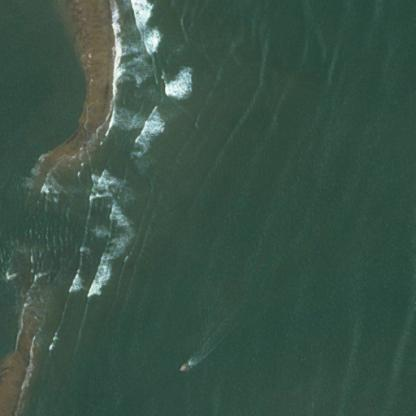ship: (0, 362, 7, 371)
